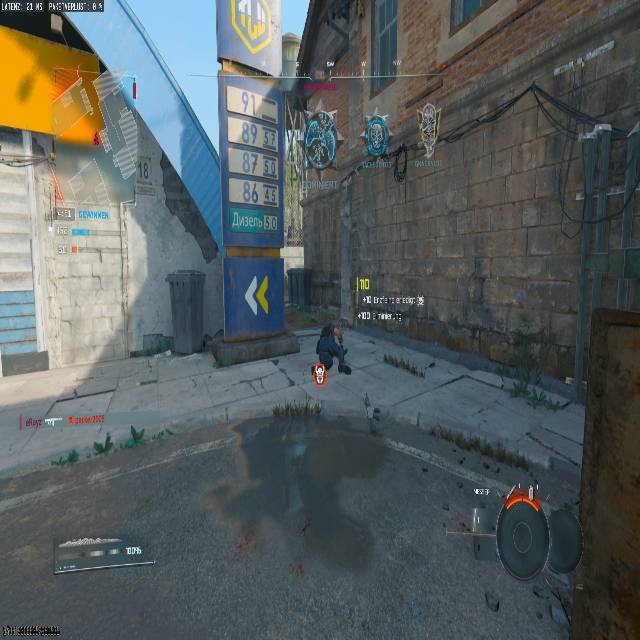head: (332, 325, 345, 340)
player: (314, 319, 352, 383)
